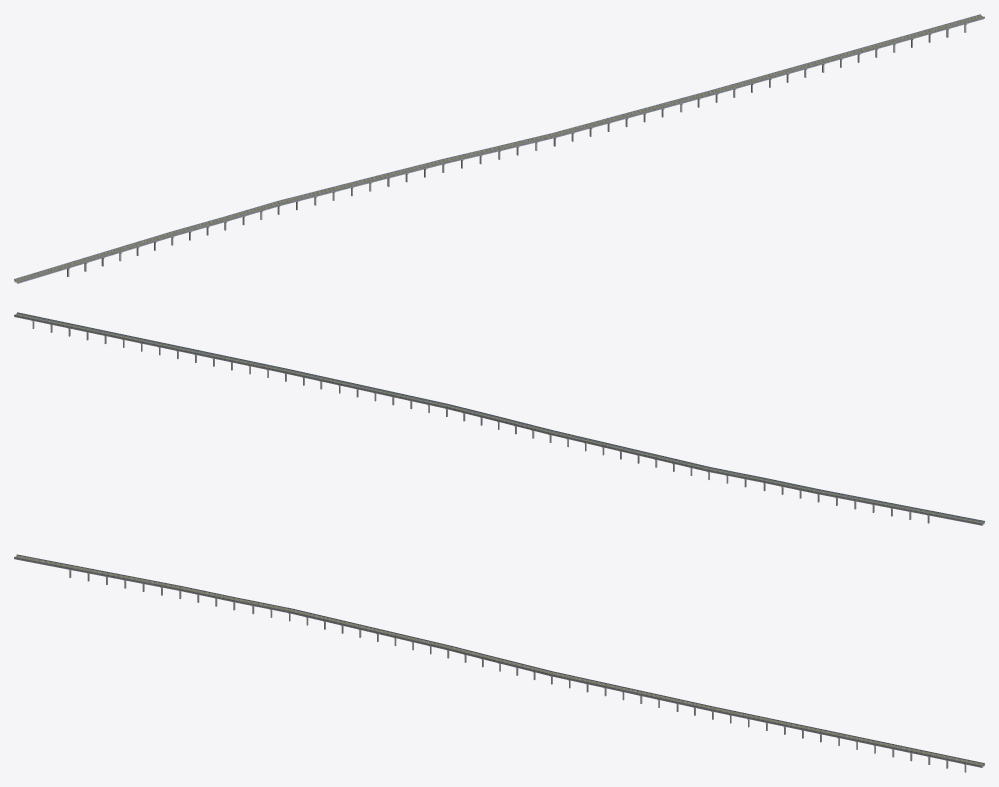
3 renders of one model, top to bottom at view 1: azimuth 30°, elevation 25°; view 2: azimuth 150°, elevation 25°; view 3: azimuth 330°, elevation 25°, orthographic. The views are drawn at different scales.
Visible parts, largest first — view 1: HN1263___Ha_Dong_Metro_Station___1; view 2: HN1263___Ha_Dong_Metro_Station___1; view 3: HN1263___Ha_Dong_Metro_Station___1.
Boxes of the visible parts, x1,y1,x2,y2 form: HN1263___Ha_Dong_Metro_Station___1: (14, 14, 984, 283); HN1263___Ha_Dong_Metro_Station___1: (14, 312, 984, 525); HN1263___Ha_Dong_Metro_Station___1: (14, 554, 984, 772).
Size of the model in its own units: 1298 by 15.17 by 75.15.
Materials: 1 (1 with a texture image).
